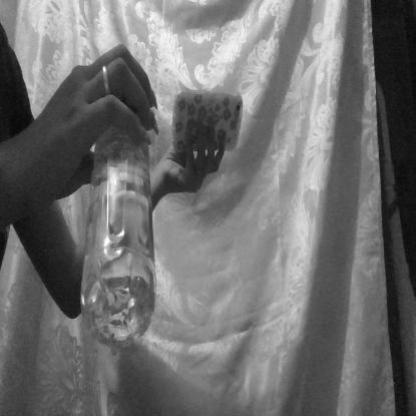Plastic Bottle: (50, 26, 172, 392)
